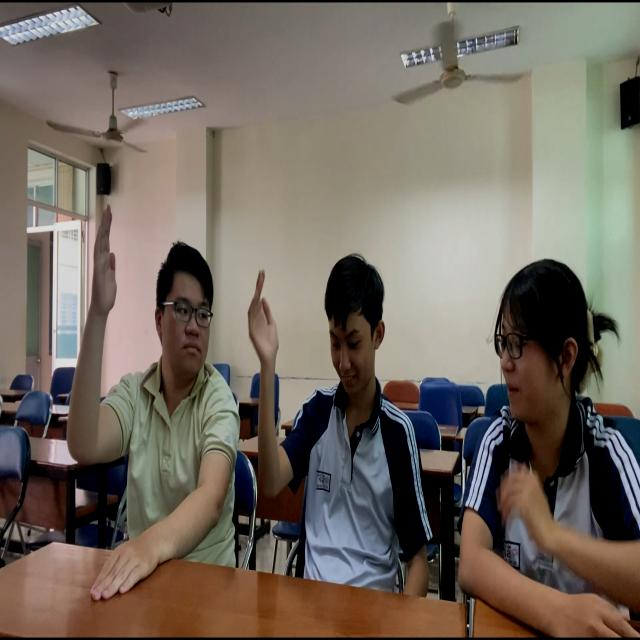raise_hand: (245, 238, 435, 606), (78, 211, 231, 583)
